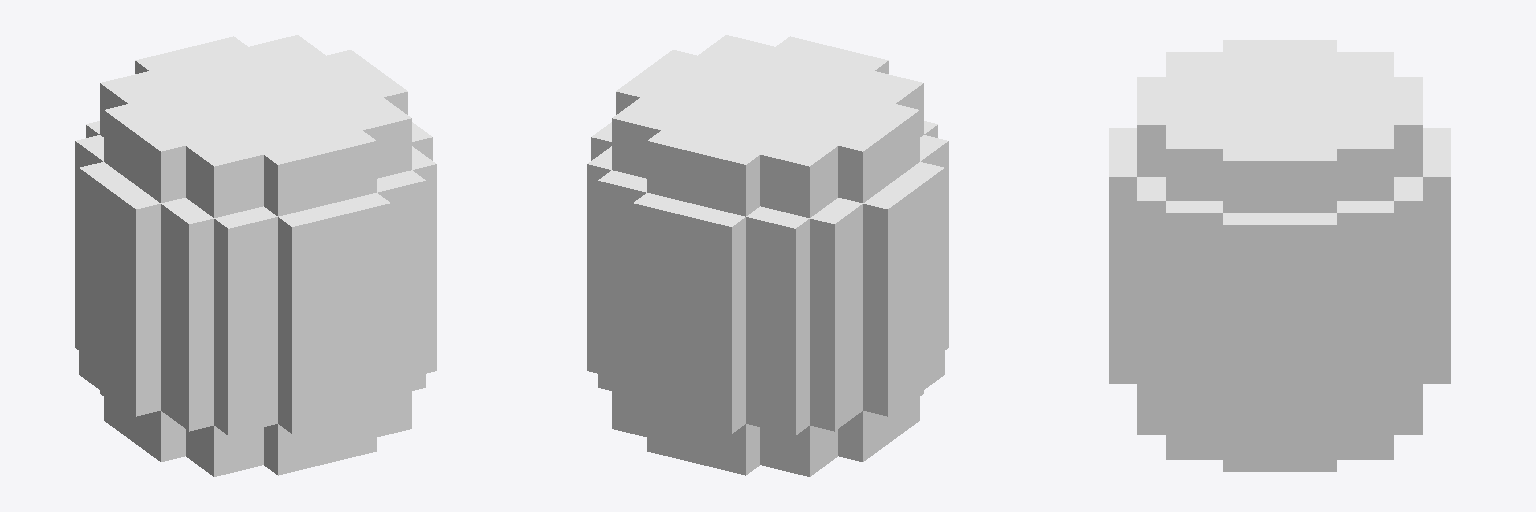
The model's file is Barrel.obj.
3 renders of one model, left to right at view 1: azimuth 30°, elevation 25°; view 2: azimuth 150°, elevation 25°; view 3: azimuth 270°, elevation 25°, orthographic.
Bounding box in the file's own units: 12 × 12 × 12.